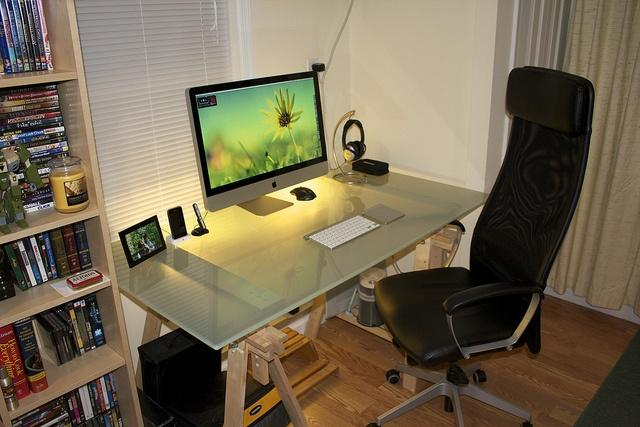AIO PC-Monitor-TV: (184, 69, 330, 212)
Kursi: (367, 64, 595, 426)
Meja: (109, 162, 490, 398)
Rak: (0, 0, 145, 425)
